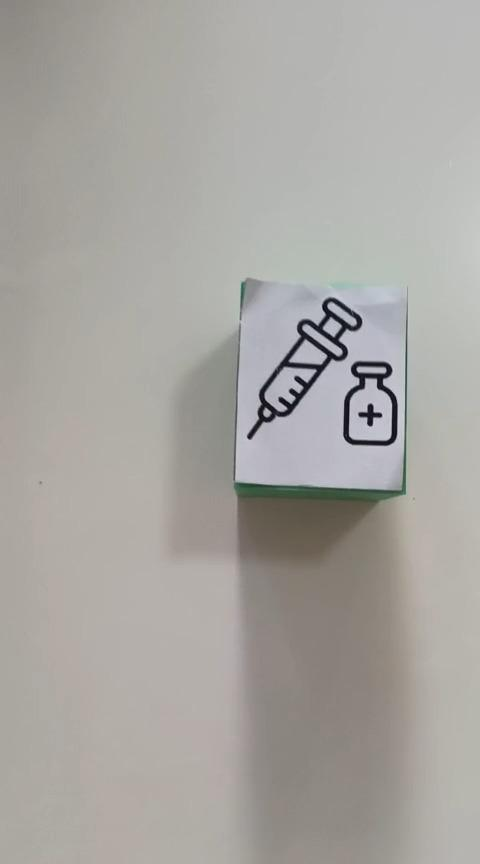antiseptic cream: (234, 277, 407, 504)
